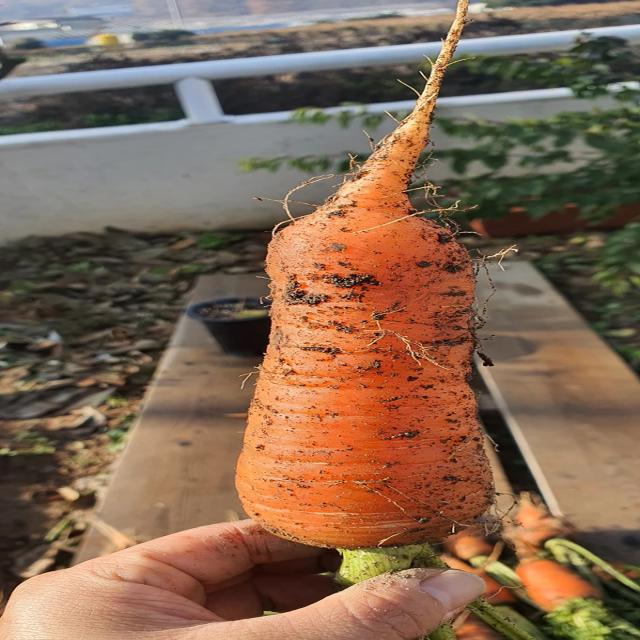carrot: (238, 3, 501, 575)
